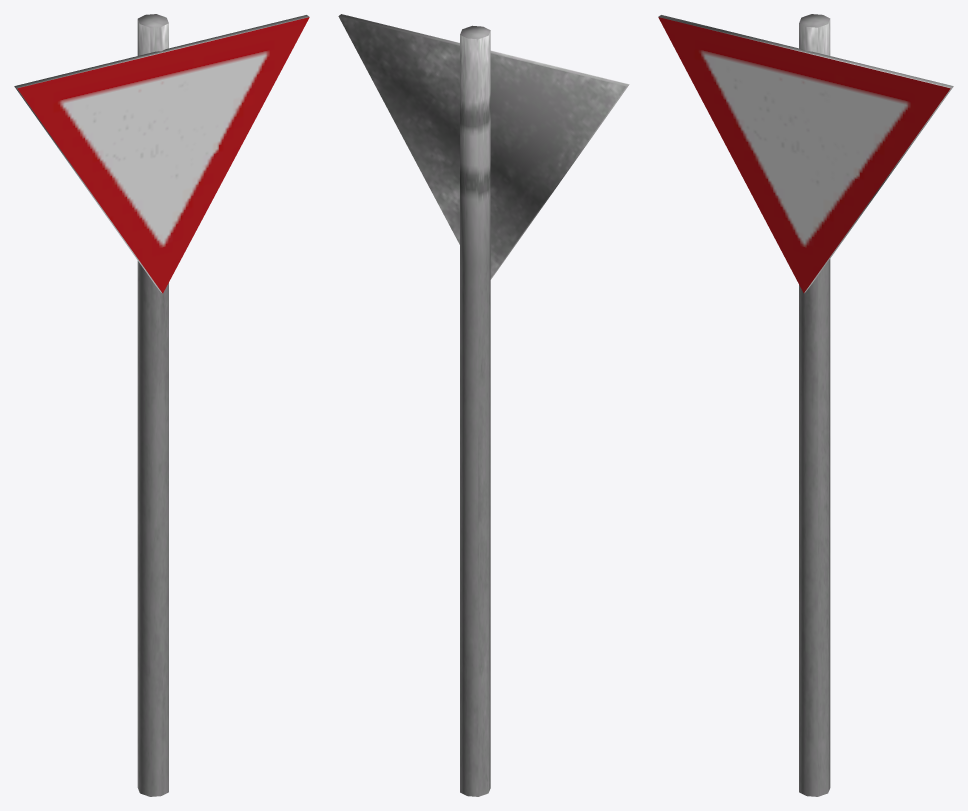
The model's file is VikePliktSkilt.glb.
The picture shows the model from 3 angles, left to right: view 1: azimuth 30°, elevation 25°; view 2: azimuth 150°, elevation 25°; view 3: azimuth 330°, elevation 25°; orthographic projection.
Parts seen in each view (by area): view 1: VikePliktSkilt; view 2: VikePliktSkilt; view 3: VikePliktSkilt.
Part boxes in pixels (box(x1,y1,x2,y2)): VikePliktSkilt: box(14, 14, 309, 796); VikePliktSkilt: box(338, 14, 629, 796); VikePliktSkilt: box(658, 14, 953, 796).
Size of the model in its own units: 6.73 by 16.91 by 0.7342.
1 material, 1 textured.
